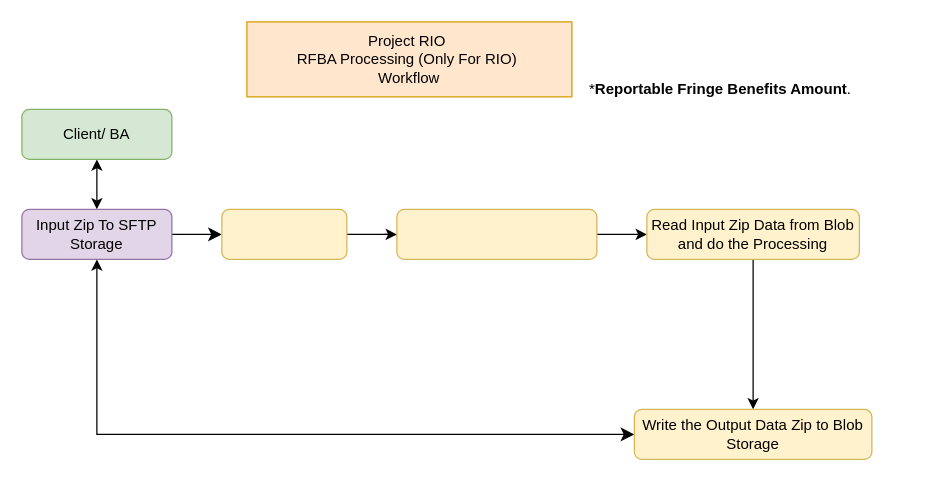
Image size: 936x481. Some labels were removed from this diagram. Here are the shapes that lost their labels. From the top down, the centre of each, then its label:
At (x=284, y=233): "Input Zip to Blob Storage".
At (x=496, y=233): "UI Request For RFBA Processing".
